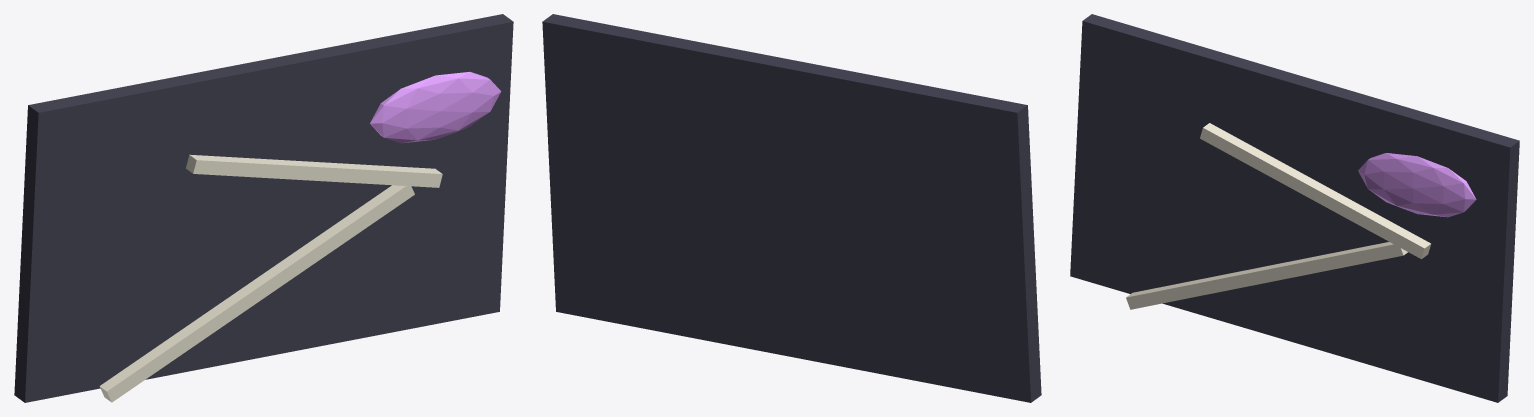
Rendered from 05_weathering_wear_overlay_5.glb.
The picture shows the model from 3 angles, left to right: view 1: azimuth 30°, elevation 25°; view 2: azimuth 150°, elevation 25°; view 3: azimuth 330°, elevation 25°; orthographic projection. The views are drawn at different scales.
Visible parts, largest first — view 1: wear_plate, scratch_a, rust_or_moss_spot, scratch_b; view 2: wear_plate; view 3: wear_plate, rust_or_moss_spot, scratch_b, scratch_a.
Part boxes in pixels (x1,y1,x2,y2): wear_plate: (14, 14, 513, 402); scratch_a: (99, 185, 414, 402); rust_or_moss_spot: (370, 72, 501, 143); scratch_b: (186, 154, 442, 187); wear_plate: (542, 14, 1041, 402); wear_plate: (1070, 14, 1519, 402); rust_or_moss_spot: (1358, 153, 1476, 217); scratch_b: (1200, 123, 1430, 259); scratch_a: (1126, 242, 1407, 309).
Bounding box in the file's own units: 1.34 × 0.8137 × 0.134.
